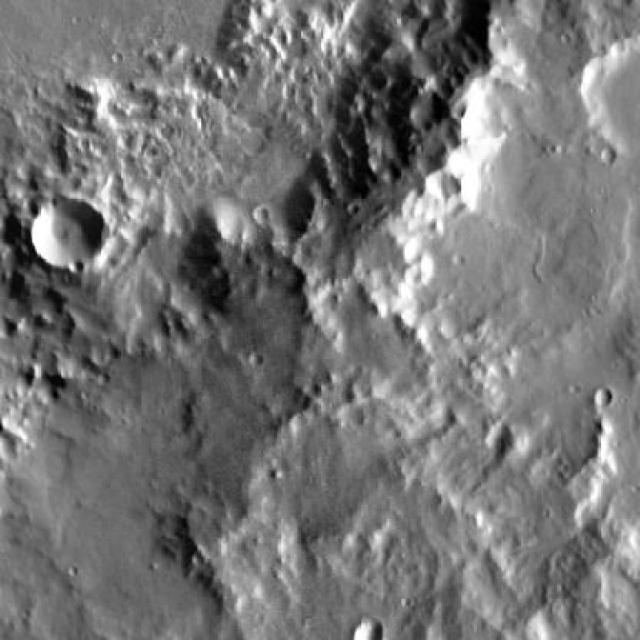crater: (571, 40, 640, 164), (32, 196, 102, 267), (354, 618, 383, 640), (595, 387, 613, 405), (592, 146, 608, 162), (252, 210, 268, 226)
